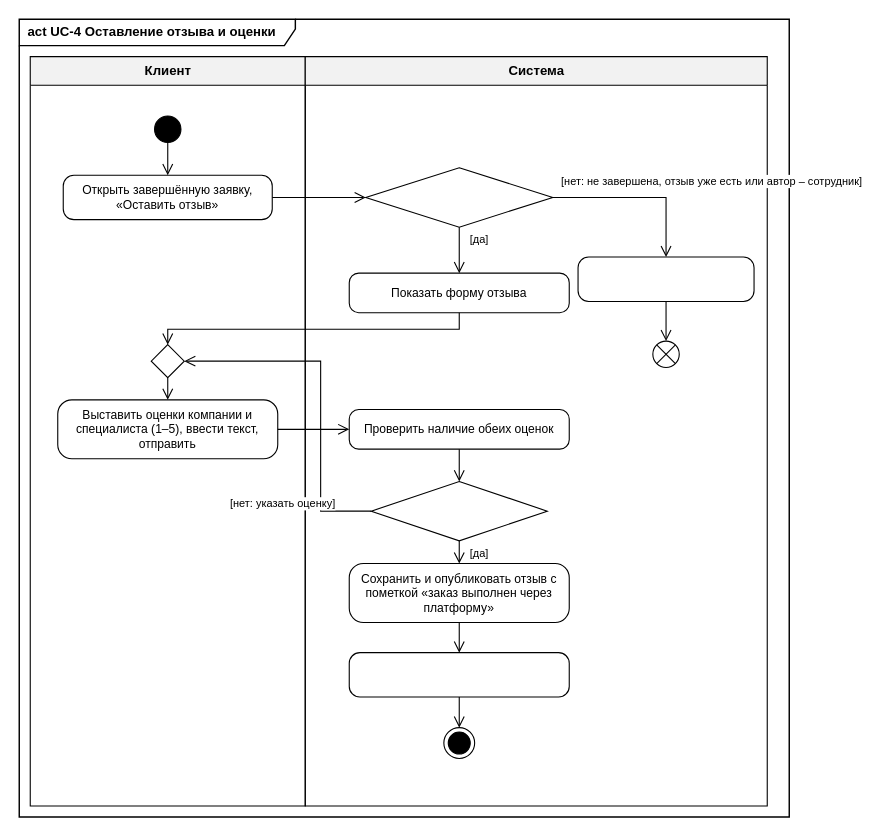
This 882x837 diagram has some shape labels left out. The box of each missing label's shape, as (x1, y1, x2, y2) in pixels:
Отзыв можно оставить?: (365, 167, 553, 227)
Оценки выставлены?: (370, 480, 547, 541)
Пересчитать рейтинги компании и специалиста: (348, 652, 569, 697)
Сообщить причину: форма недоступна: (577, 256, 754, 302)
